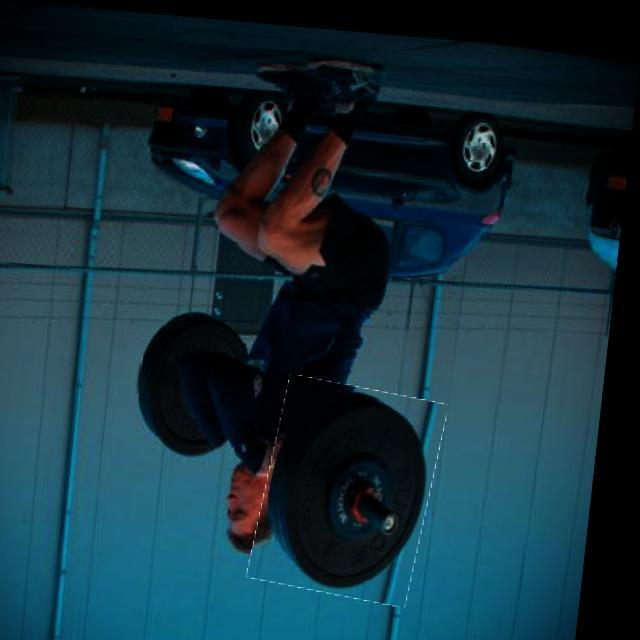barbell: (264, 372, 454, 597)
